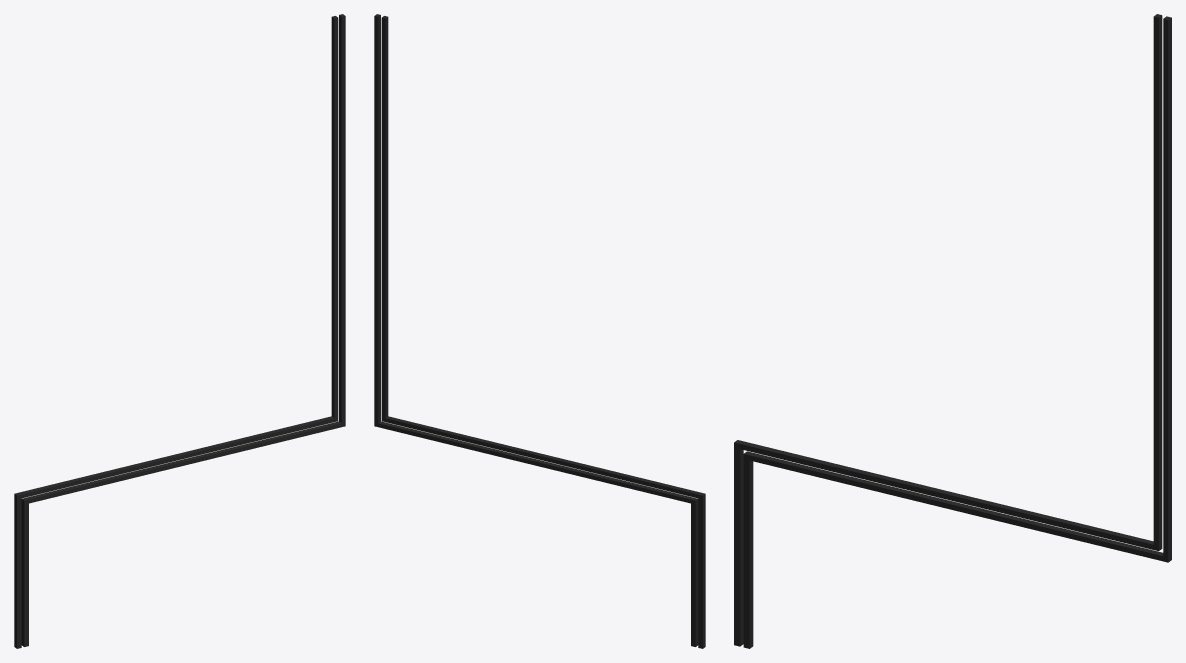
Rendered from WallDecor_04.fbx.
The picture shows the model from 3 angles, left to right: view 1: azimuth 30°, elevation 25°; view 2: azimuth 150°, elevation 25°; view 3: azimuth 330°, elevation 25°; orthographic projection. The views are drawn at different scales.
Parts seen in each view (by area): view 1: WallDecor_04; view 2: WallDecor_04; view 3: WallDecor_04.
Boxes of the visible parts, x1,y1,x2,y2 form: WallDecor_04: [14, 14, 345, 648]; WallDecor_04: [374, 14, 705, 648]; WallDecor_04: [734, 14, 1171, 648].
Size of the model in its own units: 227 by 365 by 3.15.
